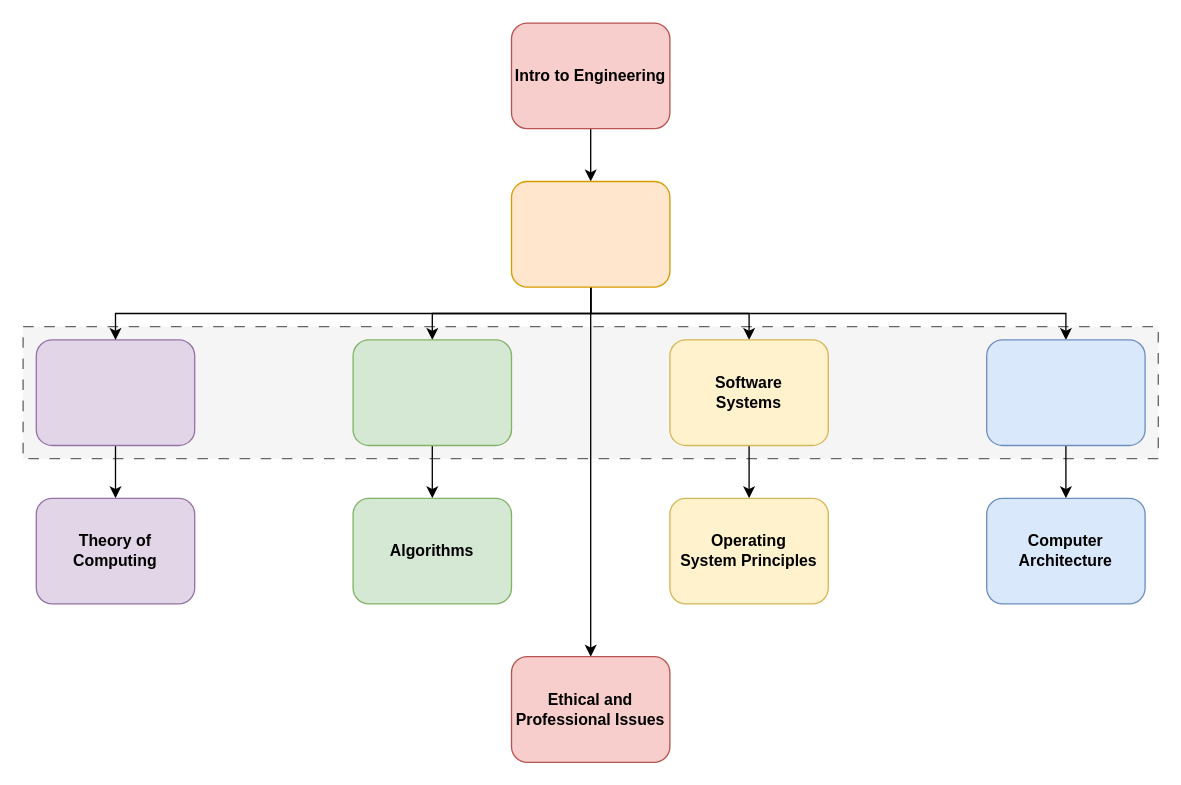
This 1181x785 diagram has some shape labels left out. Here are the shapes that lost their labels. From the top down, the centre of each, then its label:
(590,233): Fundamentals of Computing
(115,392): Discrete Math
(432,392): Data Structures
(1065,392): Computer Organization
